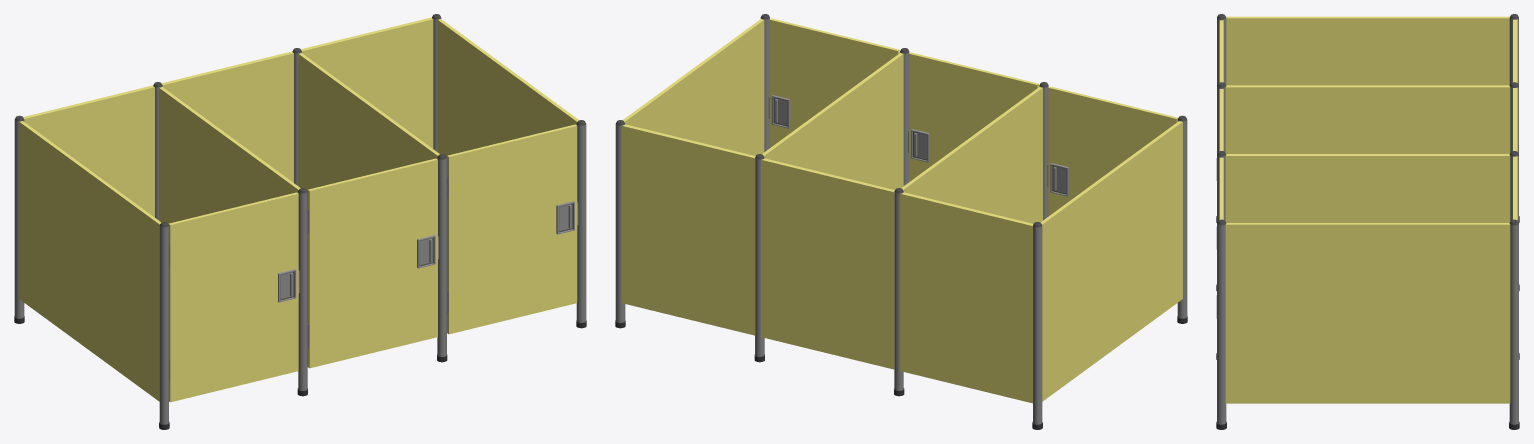
File: Multiple Bathroom Stalls Yellow.fbx
3 views of the same model, side by side, from view 1: azimuth 30°, elevation 25°; view 2: azimuth 150°, elevation 25°; view 3: azimuth 270°, elevation 25° (orthographic).
Visible parts, largest first — view 1: Multiple Bathroom Stalls Yellow; view 2: Multiple Bathroom Stalls Yellow; view 3: Multiple Bathroom Stalls Yellow.
Boxes of the visible parts, x1,y1,x2,y2 form: Multiple Bathroom Stalls Yellow: (14,14,586,429); Multiple Bathroom Stalls Yellow: (615,14,1187,429); Multiple Bathroom Stalls Yellow: (1216,14,1519,429).
Size of the model in its own units: 468 by 215 by 286.
1 material, 1 textured.
